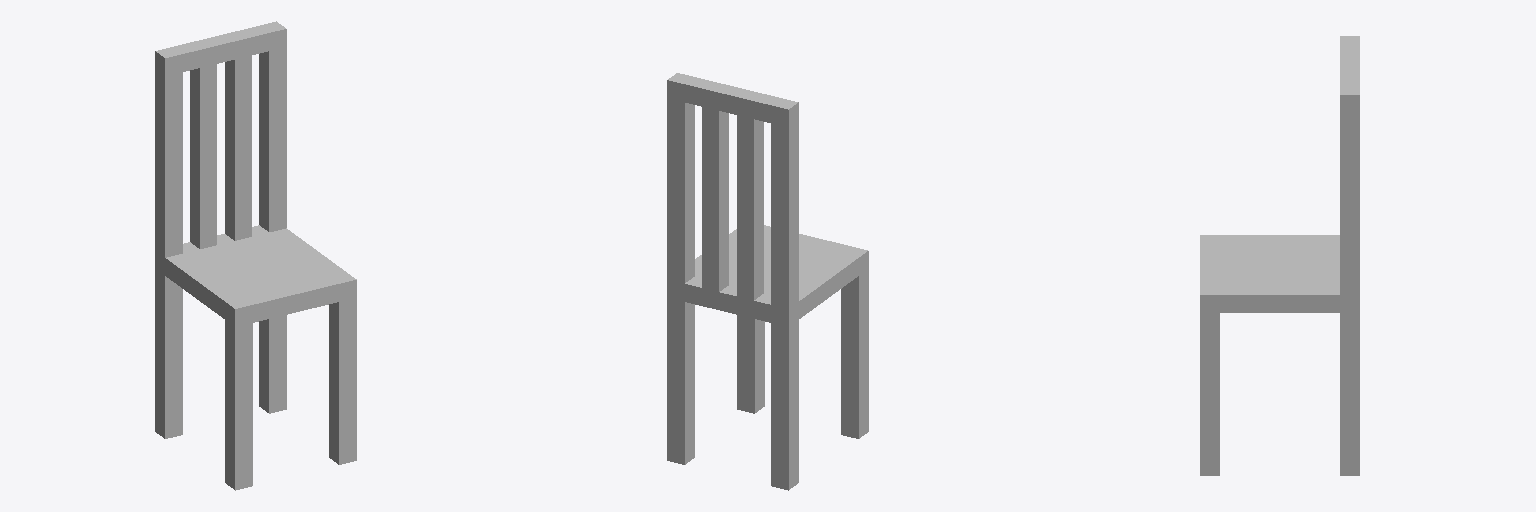
Rendered from Chair.obj.
The picture shows the model from 3 angles: view 1: azimuth 30°, elevation 25°; view 2: azimuth 150°, elevation 25°; view 3: azimuth 270°, elevation 25°; orthographic projection.
Visible parts, largest first — view 1: Chair; view 2: Chair; view 3: Chair.
Boxes of the visible parts, x1=… form: Chair: x1=155, y1=21, x2=356, y2=490; Chair: x1=667, y1=73, x2=868, y2=490; Chair: x1=1200, y1=36, x2=1359, y2=475.
Size of the model in its own units: 7 by 21 by 8.